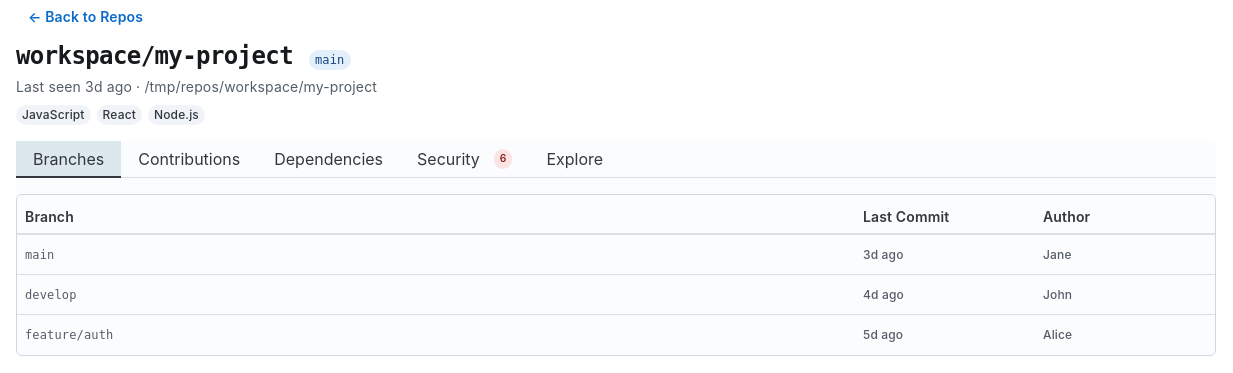
AdminRepoDetailPage › displays Dependencies tab with dependency data
Expected: the heading "workspace/my-project" is shown, [16, 40, 293, 72]
Click the tab "Dependencies": (329, 159) [257, 141, 400, 177]
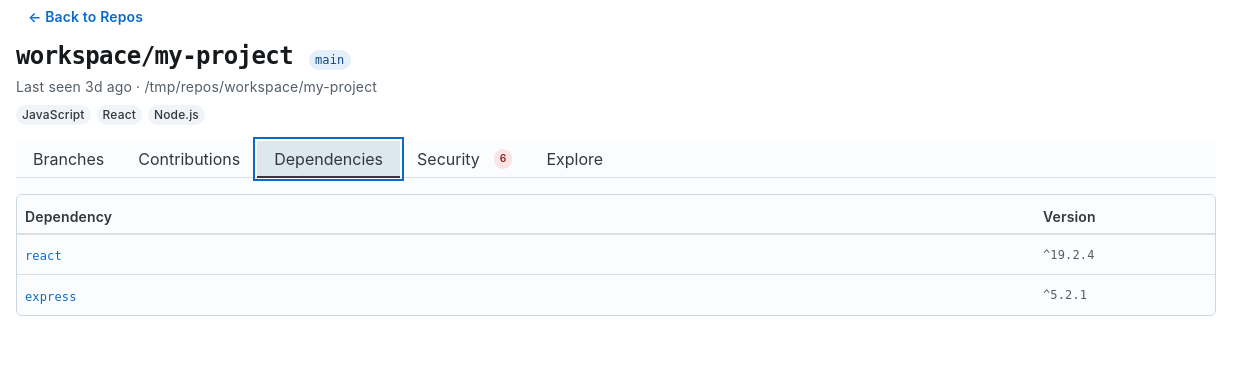
Expected: the link "react" is shown, [25, 247, 62, 265]
Expected: the link "express" is shown, [25, 288, 77, 306]
Expected: the text "^19.2.4" is shown, [1043, 248, 1095, 262]
